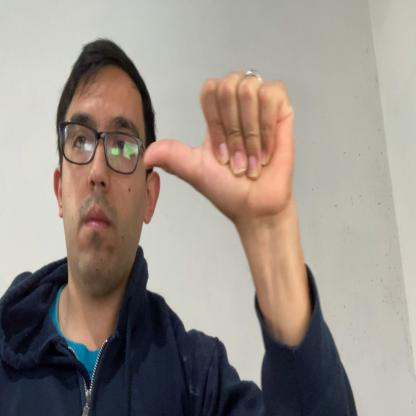A: (143, 70, 294, 219)
